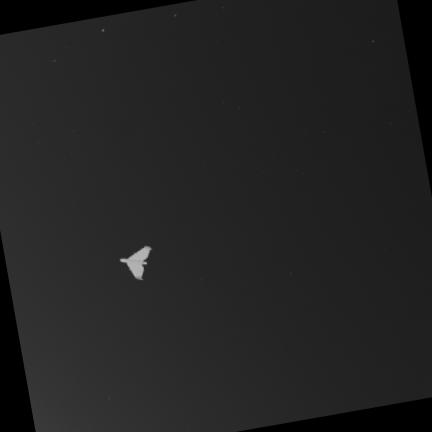Shahed: (120, 247, 150, 280)
